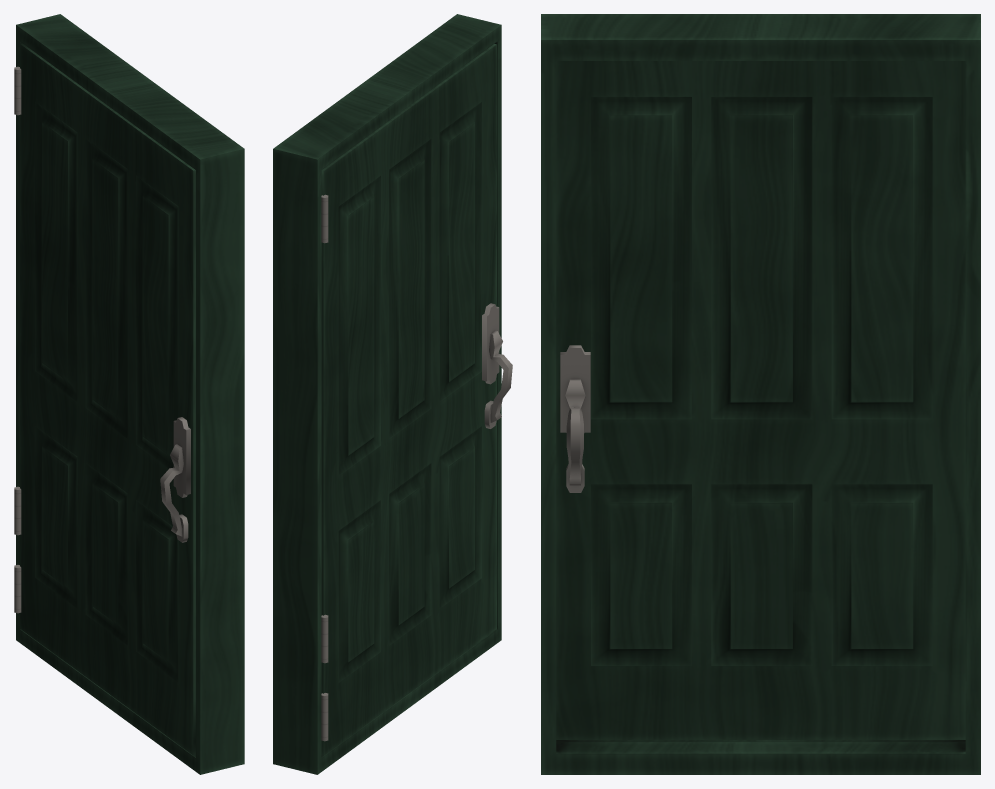
The model's file is Door_Border_In_B_Green.fbx.
3 views of the same model, side by side, from view 1: azimuth 30°, elevation 25°; view 2: azimuth 150°, elevation 25°; view 3: azimuth 270°, elevation 25° (orthographic). The views are drawn at different scales.
Visible parts, largest first — view 1: U_Door_B, U_Door_Border_In_B_Green, U_Handle_B, U_Hinge; view 2: U_Door_B, U_Door_Border_In_B_Green, U_Handle_B, U_Hinge; view 3: U_Door_B, U_Door_Border_In_B_Green, U_Handle_B.
Boxes of the visible parts, left/top/right/bottom form: U_Door_B: left=20, top=43, right=195, bottom=755; U_Door_Border_In_B_Green: left=16, top=14, right=244, bottom=774; U_Handle_B: left=160, top=417, right=190, bottom=542; U_Hinge: left=14, top=66, right=21, bottom=613; U_Door_B: left=321, top=44, right=496, bottom=755; U_Door_Border_In_B_Green: left=273, top=14, right=501, bottom=774; U_Handle_B: left=482, top=303, right=512, bottom=428; U_Hinge: left=321, top=194, right=328, bottom=741; U_Door_B: left=556, top=61, right=965, bottom=739; U_Door_Border_In_B_Green: left=541, top=14, right=980, bottom=774; U_Handle_B: left=560, top=345, right=590, bottom=492.
Bounding box in the file's own units: 28.89 × 250 × 136.
Materials: 1 (1 with a texture image).
